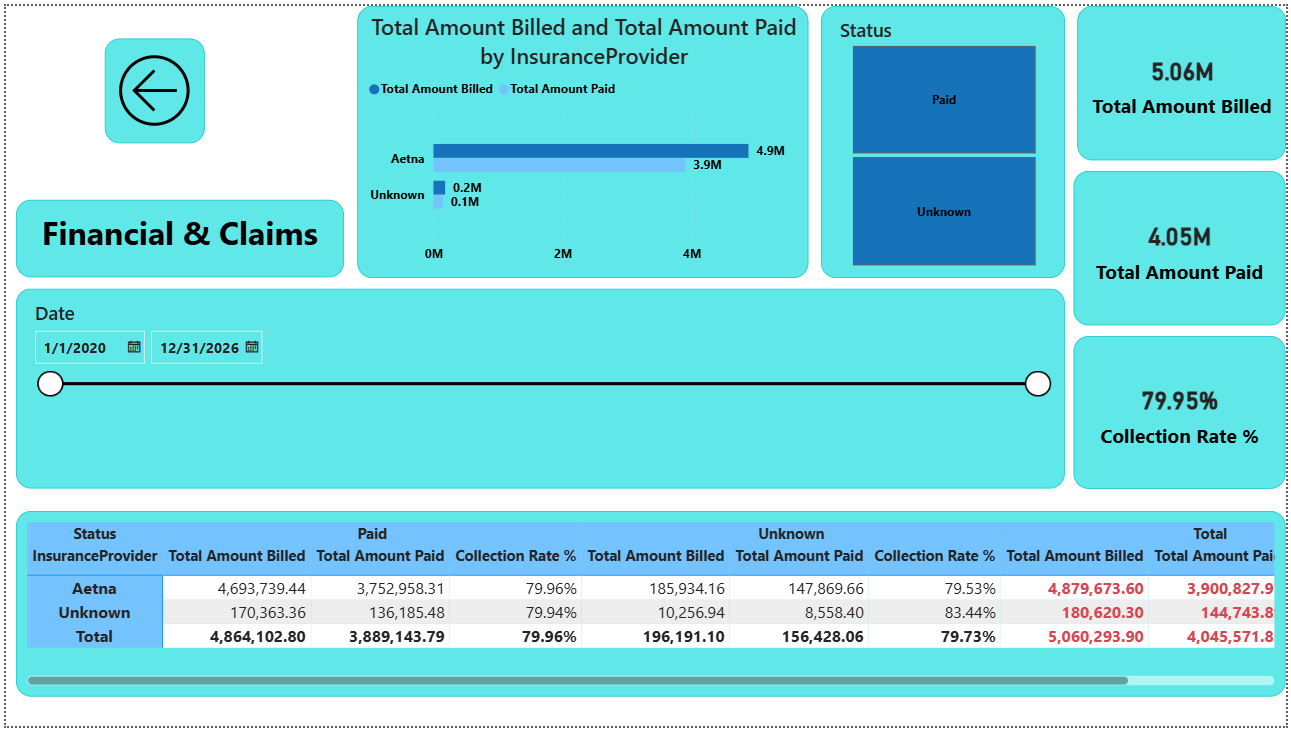

The dashboard page shown, as its layout file describes it:
{"tool":"powerbi","page":{"name":"Financial & Claims","canvas":[1280,720],"ordinal":2},"visuals":[{"type":"card","fields":{"Values":["_All Measures.Total Amount Billed"]},"box":[1071.2,0,209.1,154.1],"z":0},{"type":"card","fields":{"Values":["_All Measures.Total Amount Paid"]},"box":[1067.9,164.7,211.8,154.4],"z":1000},{"type":"card","fields":{"Values":["_All Measures.Collection Rate %"]},"box":[1067.9,329.5,211.8,153],"z":2000},{"type":"clusteredBarChart","fields":{"Category":["Insurance Claims.InsuranceProvider"],"Y":["_All Measures.Total Amount Billed","_All Measures.Total Amount Paid"]},"box":[351.6,0,451.6,272.1],"z":3000},{"type":"pivotTable","fields":{"Rows":["Insurance Claims.InsuranceProvider"],"Columns":["Insurance Claims.Status"],"Values":["_All Measures.Total Amount Billed","_All Measures.Total Amount Paid","_All Measures.Collection Rate %"]},"box":[10.3,504.5,1269.4,185.3],"z":4000},{"type":"slicer","fields":{"Values":["Insurance Claims.Status"]},"box":[814.9,0,244.2,272.1],"z":5000},{"type":"slicer","fields":{"Values":["Date Table.Date"]},"box":[10.3,282.4,1048.8,200],"z":6000},{"type":"textbox","box":[10.3,194.2,328,78],"z":7000},{"type":"actionButton","box":[98.6,32.4,100,104.4],"z":8000}]}

Visuals, with their boxes in screenshot pixels (x1, y1, x2, y2), scaled from the page's 1280x720 canvas onto the 1291x730 screenshot:
card - _All Measures.Total Amount Billed: <box>1080,0,1290,156</box>
card - _All Measures.Total Amount Paid: <box>1077,167,1290,324</box>
card - _All Measures.Collection Rate %: <box>1077,334,1290,489</box>
clusteredBarChart - Insurance Claims.InsuranceProvider x _All Measures.Total Amount Billed: <box>355,0,810,276</box>
pivotTable - Insurance Claims.InsuranceProvider x Insurance Claims.Status: <box>10,512,1290,699</box>
slicer - Insurance Claims.Status: <box>822,0,1068,276</box>
slicer - Date Table.Date: <box>10,286,1068,489</box>
textbox: <box>10,197,341,276</box>
actionButton: <box>99,33,200,139</box>
